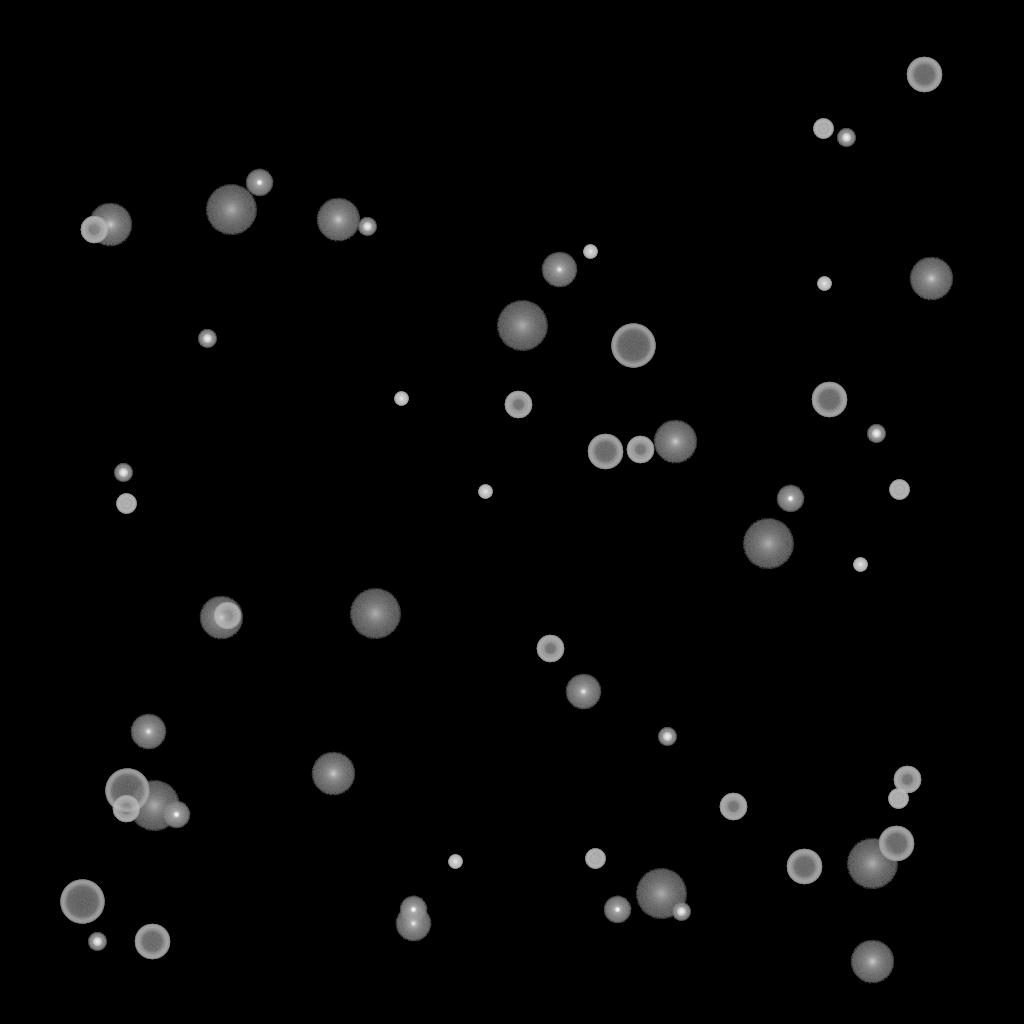depth:-10: (245, 169, 273, 197), (776, 485, 804, 513), (162, 801, 190, 829), (399, 896, 427, 924), (603, 896, 631, 924)
depth:-20: (358, 218, 376, 236), (837, 129, 855, 147), (88, 933, 106, 951), (658, 728, 676, 746), (672, 903, 690, 921), (867, 425, 885, 443), (198, 330, 216, 348), (114, 464, 132, 482)
depth:-30: (853, 558, 867, 572), (478, 485, 492, 499), (394, 392, 408, 406), (583, 245, 597, 259), (817, 277, 831, 291), (448, 855, 462, 869)
depth:-40: (116, 494, 136, 514), (813, 119, 833, 139), (585, 849, 605, 869), (889, 480, 909, 500), (888, 789, 908, 809)
depth:-50: (626, 436, 654, 464), (893, 766, 921, 794), (536, 635, 564, 663), (80, 216, 108, 244), (213, 602, 241, 630), (112, 795, 140, 823), (504, 391, 532, 419), (719, 793, 747, 821)
depth:-60: (786, 849, 822, 885), (878, 826, 914, 862), (811, 382, 847, 418), (134, 924, 170, 960), (587, 434, 623, 470), (906, 57, 942, 93)
depth:-70: (60, 880, 104, 924), (611, 324, 655, 368), (105, 769, 149, 813)
depth:0: (130, 714, 166, 750), (541, 252, 577, 288), (395, 906, 431, 942), (565, 674, 601, 710)
depth:10: (199, 596, 243, 640), (653, 420, 697, 464), (311, 752, 355, 796), (316, 198, 360, 242), (850, 940, 894, 984), (909, 257, 953, 301), (88, 203, 132, 247)
depth:20: (635, 869, 687, 919), (349, 589, 401, 639), (742, 519, 794, 569), (846, 839, 898, 889), (205, 185, 257, 235), (128, 781, 180, 831), (496, 301, 548, 351)
